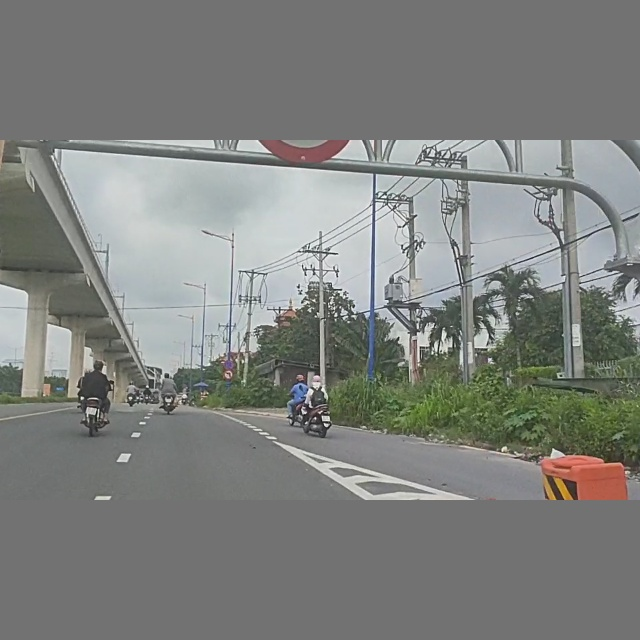P.123a: (224, 370, 234, 379)
P.130: (224, 360, 234, 369)
